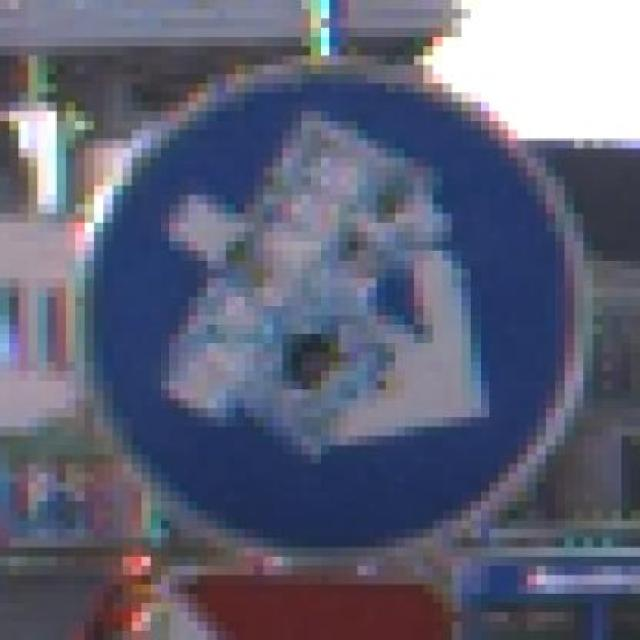Keep-Right: (47, 64, 611, 576)
